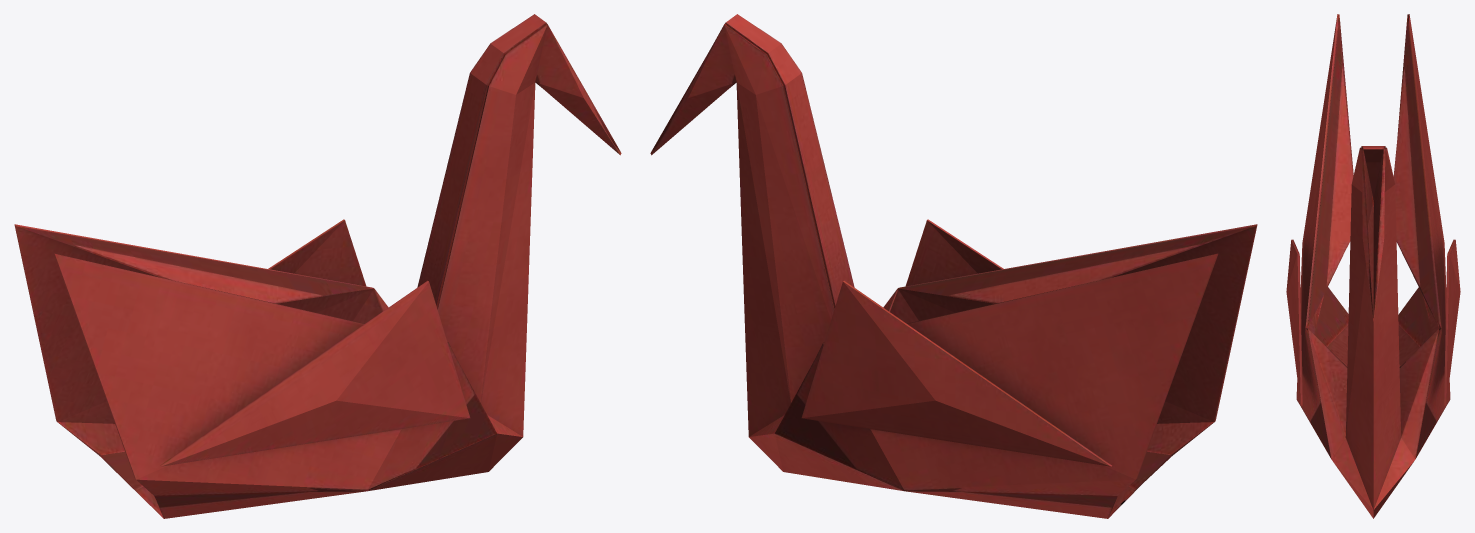
File: cigno.glb
3 renders of one model, left to right at view 1: azimuth 30°, elevation 25°; view 2: azimuth 150°, elevation 25°; view 3: azimuth 270°, elevation 25°, orthographic. The views are drawn at different scales.
Visible parts, largest first — view 1: cigno; view 2: cigno; view 3: cigno.
Part boxes in pixels (x1,y1,x2,y2): cigno: (14, 14, 621, 518); cigno: (650, 14, 1257, 518); cigno: (1286, 14, 1460, 518).
Bounding box in the file's own units: 1.9 × 1.37 × 0.547.
1 material, 1 textured.
